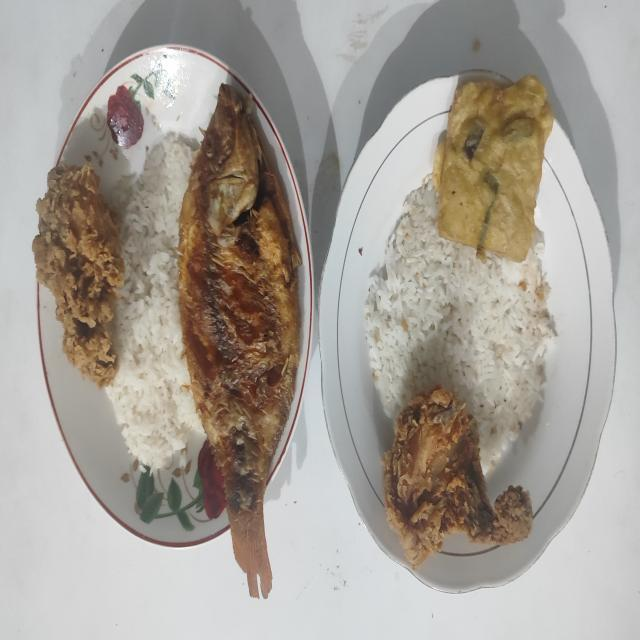ikan_mujair: (178, 86, 302, 597)
nasi_putih: (364, 176, 558, 474), (106, 133, 203, 470)
